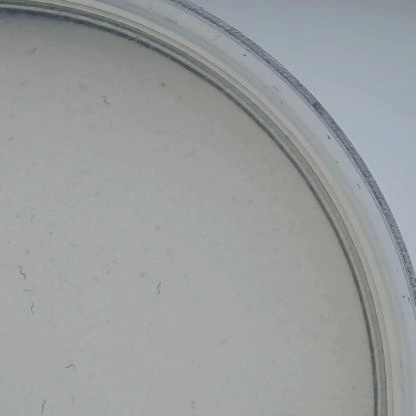worm: (14, 263, 31, 280), (62, 359, 82, 372), (100, 89, 111, 110), (76, 80, 87, 100), (151, 281, 165, 296), (36, 400, 49, 416), (27, 301, 36, 319), (6, 132, 18, 143), (21, 288, 36, 295)
